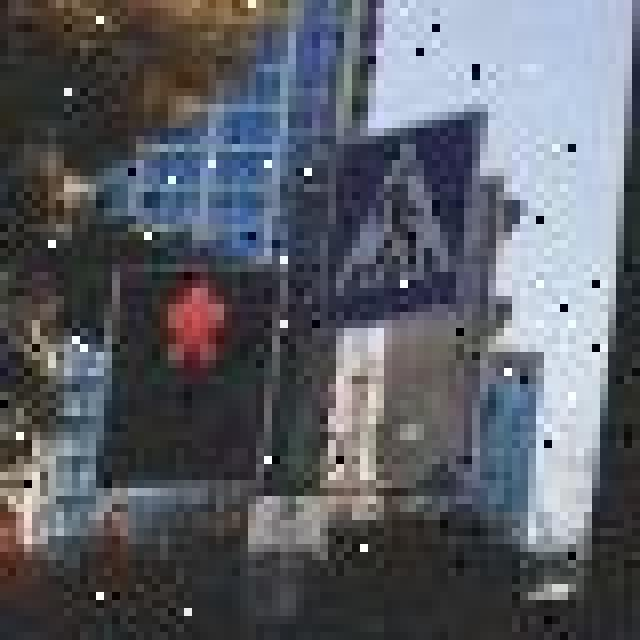redlight: (112, 256, 278, 500)
